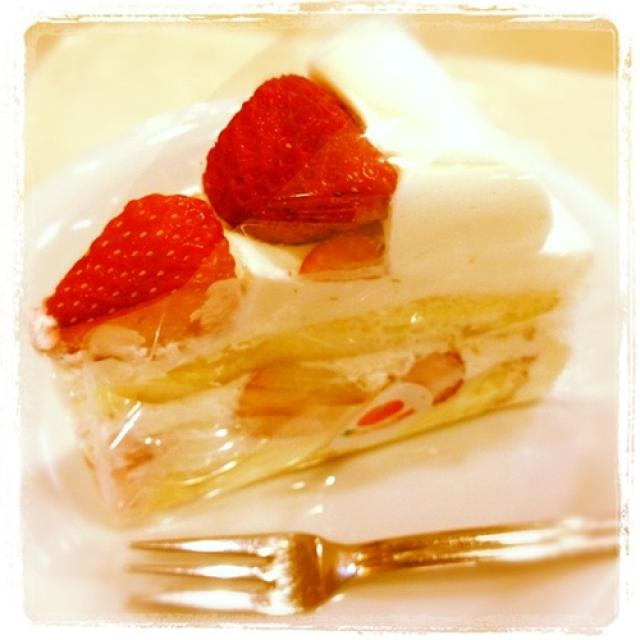蛋糕甜品: (37, 37, 609, 599)
